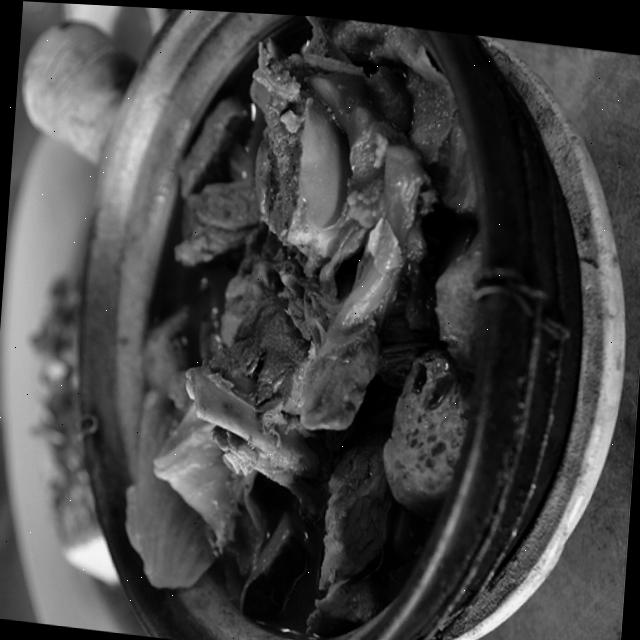汤锅炖物: (68, 3, 535, 640)
